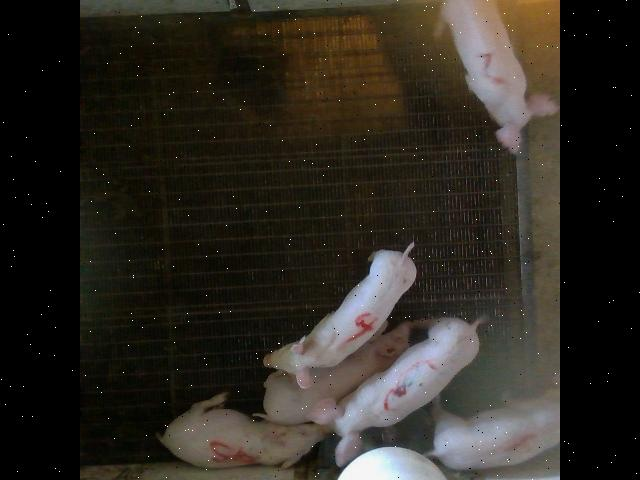pig-1: (430, 390, 559, 469)
pig-2: (441, 0, 558, 152)
pig-3: (311, 318, 479, 465)
pig-4: (264, 241, 416, 388)
pig-5: (158, 391, 332, 468)
